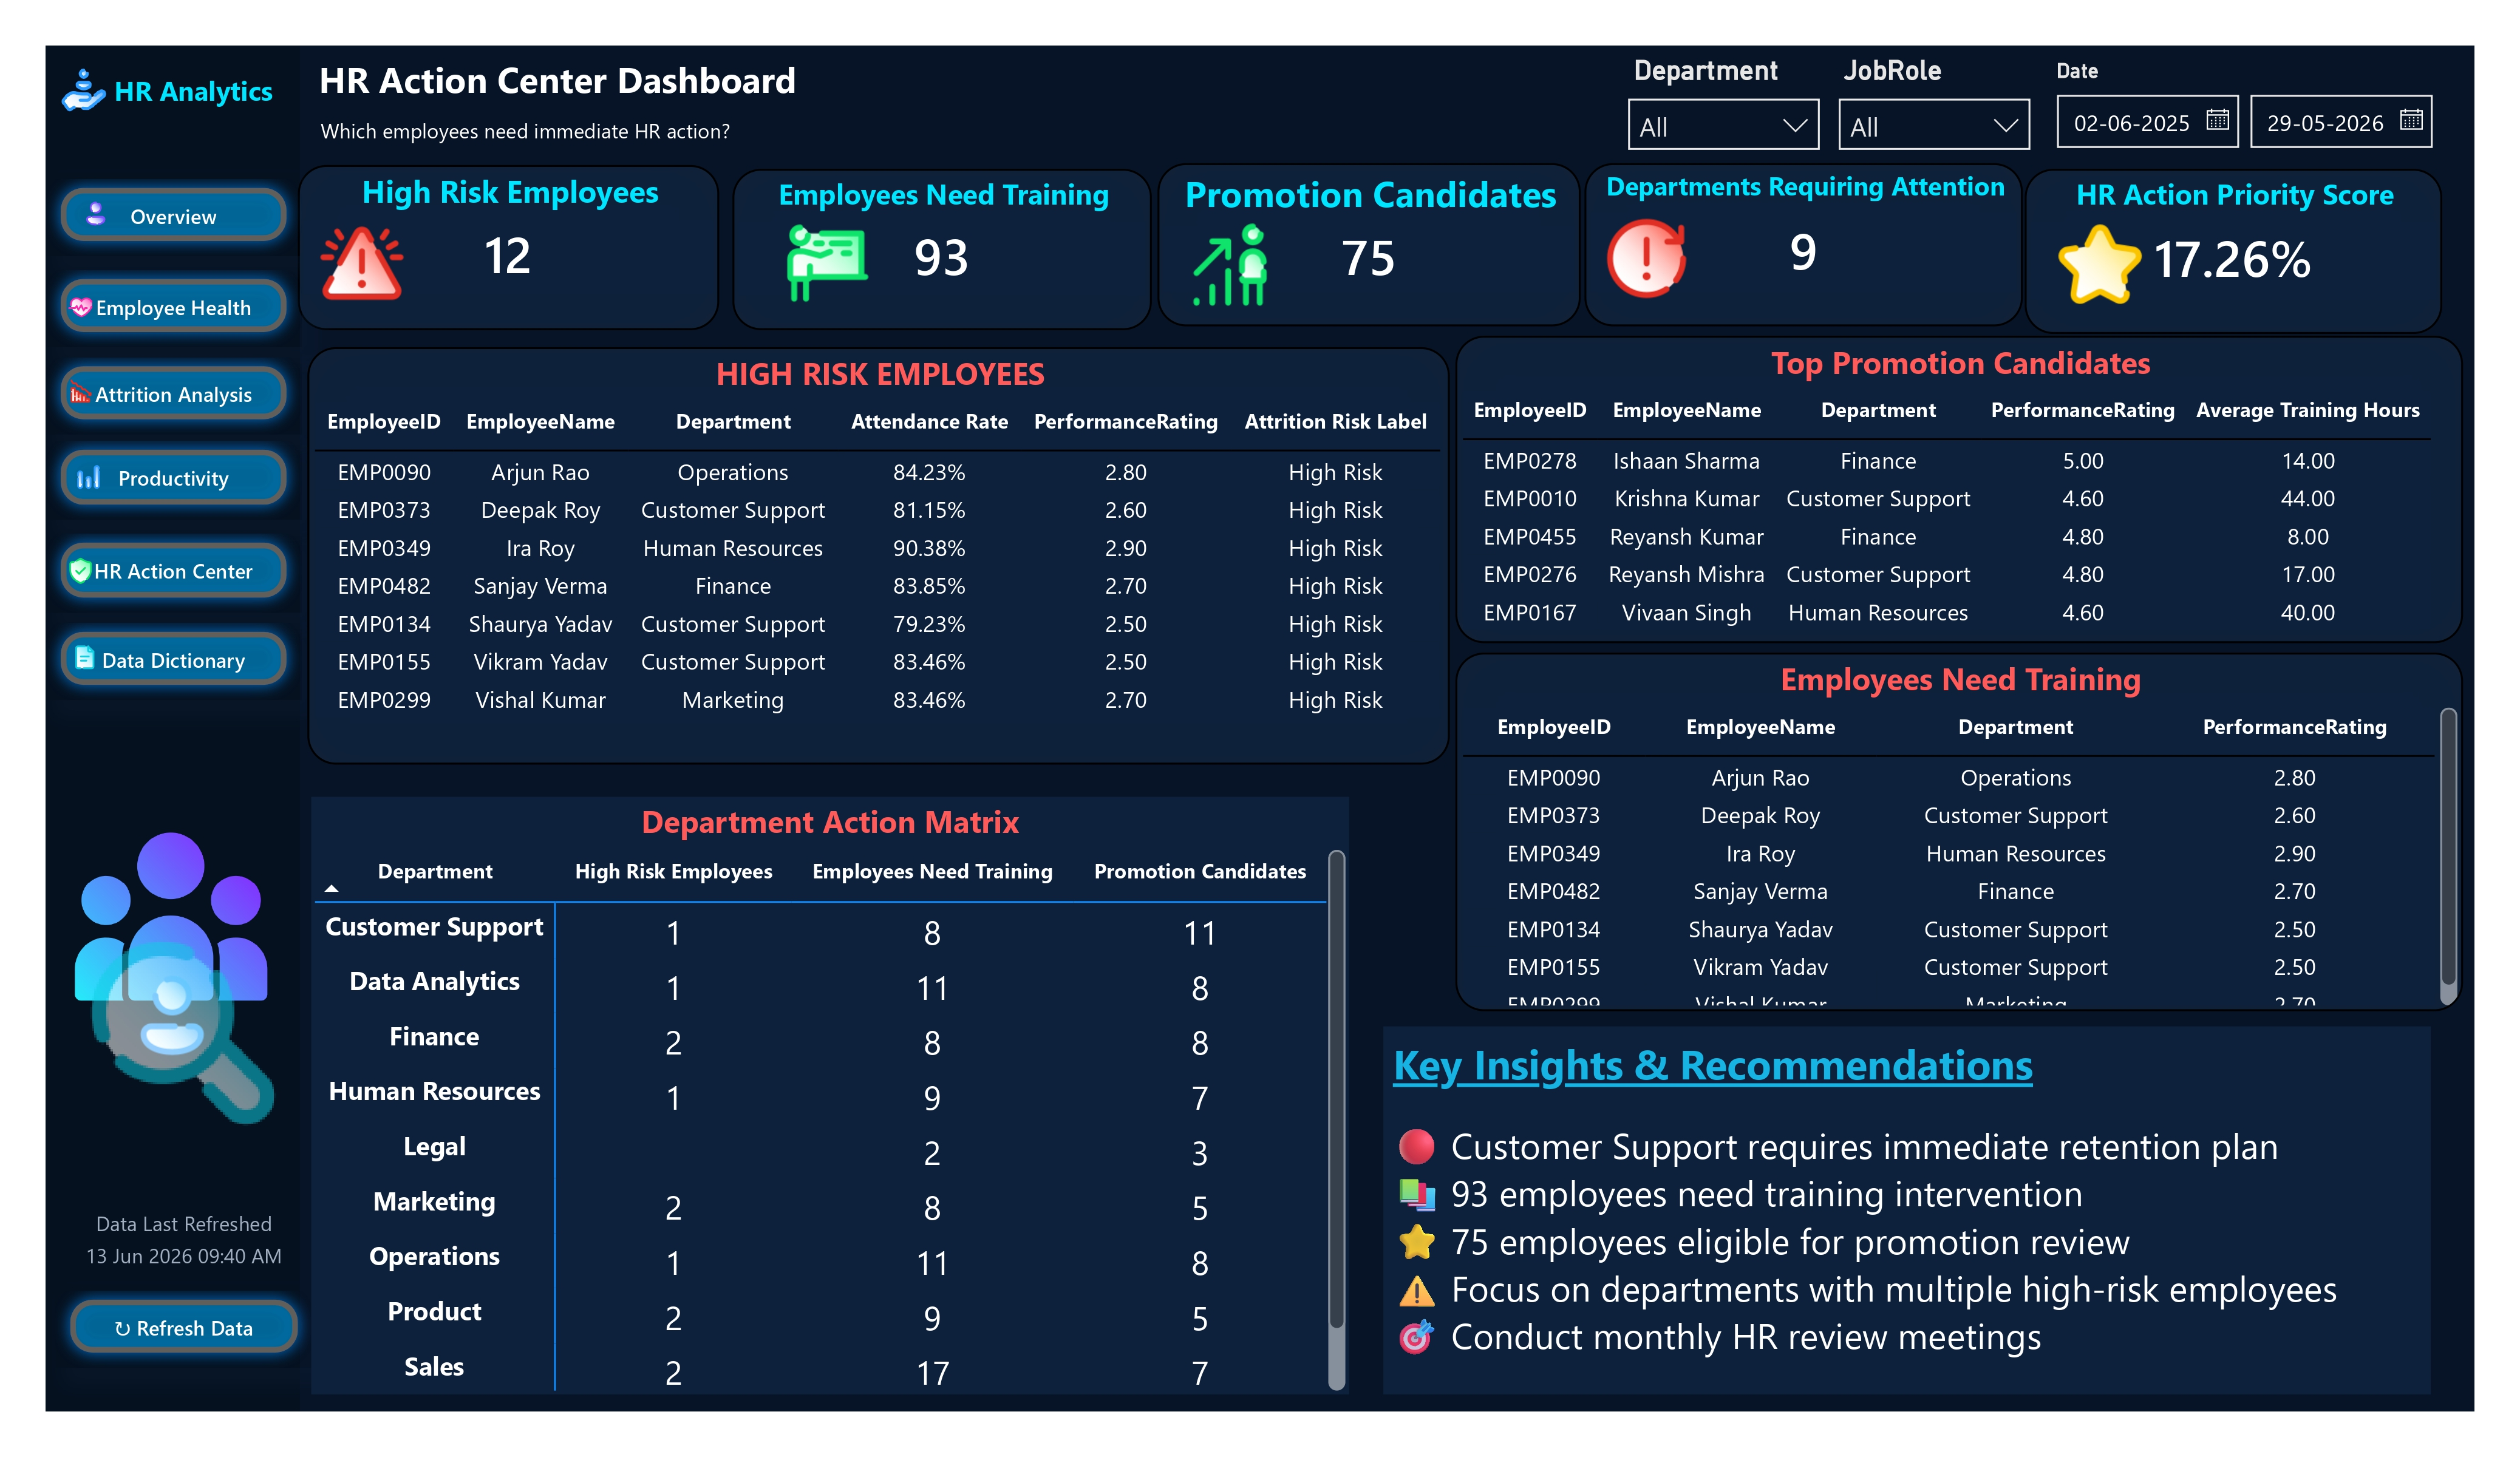

The dashboard page shown, as its layout file describes it:
{"tool":"powerbi","page":{"name":"HR Action Center","canvas":[1280,720],"ordinal":4},"visuals":[{"type":"shape","box":[0,0,134,720],"z":0},{"type":"cardVisual","title":"High Risk Employees","fields":{"Data":["HR Action Measures.High Risk Employees"]},"box":[133.3,63.1,222.2,86.1],"z":0,"group":"g1"},{"type":"textbox","box":[138.8,0,605,38.8],"z":1000},{"type":"cardVisual","title":"Employees Need Training","fields":{"Data":["HR Action Measures.Employees Need Training"]},"box":[362.3,64.3,221,85.9],"z":1000,"group":"g1"},{"type":"textbox","box":[140,30.2,669.6,33.4],"z":2000},{"type":"cardVisual","title":"Promotion Candidates","fields":{"Data":["HR Action Measures.Promotion Candidates"]},"box":[586.6,61.7,222.4,86.4],"z":2000,"group":"g1"},{"type":"group","id":"g1","title":"Group 1","box":[133.3,61.7,1130,90],"z":3000},{"type":"cardVisual","title":"Departments Requiring Attention","fields":{"Data":["HR Action Measures.Departments Requiring Attention"]},"box":[811.1,61.7,230.7,86.4],"z":3000,"group":"g1"},{"type":"slicer","fields":{"Values":["departments.Department"]},"box":[823.9,0,120.9,60.4],"z":4000},{"type":"cardVisual","title":"HR Action Priority Score","fields":{"Data":["HR Action Measures.HR Action Priority Score"]},"box":[1043.3,65.1,220,86.6],"z":4000,"group":"g1"},{"type":"slicer","fields":{"Values":["employees.JobRole"]},"box":[935.3,0,120.9,60.4],"z":5000},{"type":"slicer","fields":{"Values":["DateTable.Date"]},"box":[1046.7,2.2,227.8,60],"z":6000},{"type":"textbox","box":[29.4,8.9,97.2,30],"z":7000},{"type":"actionButton","box":[0,66.8,135.2,44.5],"z":8000},{"type":"actionButton","box":[0,114.5,135.2,44.5],"z":9000},{"type":"actionButton","box":[0,160.7,135.2,44.5],"z":10000},{"type":"actionButton","box":[0,205.2,135.2,44.5],"z":11000},{"type":"actionButton","box":[0,254.5,135.2,44.5],"z":12000},{"type":"actionButton","box":[0,300.6,135.2,44.5],"z":13000},{"type":"image","box":[12.8,396.8,106.7,124.4],"z":14000},{"type":"image","box":[42.2,480,50,62.2],"z":15000},{"type":"image","box":[11.1,457.8,123.3,125.6],"z":16000},{"type":"image","box":[19,81.4,14.8,14.8],"z":17000},{"type":"image","box":[11.4,130.9,15.5,14.5],"z":18000},{"type":"image","box":[11.4,174.8,14.8,15.2],"z":19000},{"type":"image","box":[14.3,220.5,15.2,14.8],"z":20000},{"type":"image","box":[11,269,15.2,14.8],"z":21000},{"type":"image","box":[12.9,314.3,14.8,15.2],"z":22000},{"type":"image","box":[7.2,9.4,25.6,28.9],"z":23000},{"type":"actionButton","box":[5.3,652.7,135.3,44.7],"z":24000},{"type":"textbox","box":[11.4,606.4,123.6,50.7],"z":25000},{"type":"textbox","box":[704.6,516.9,551.9,194.1],"z":26000},{"type":"tableEx","title":"Top Promotion Candidates","fields":{"Values":["performance.EmployeeID","employees.EmployeeName","departments.Department","performance.PerformanceRating","Performance Measures.Average Training Hours"]},"box":[742.8,152.7,531.3,162.2],"z":27000},{"type":"tableEx","title":"Employees Need Training","fields":{"Values":["performance.EmployeeID","employees.EmployeeName","departments.Department","performance.PerformanceRating"]},"box":[742.8,319.7,531.3,189.3],"z":28000},{"type":"tableEx","title":"HIGH RISK EMPLOYEES","fields":{"Values":["performance.EmployeeID","employees.EmployeeName","departments.Department","Attendance Measures.Attendance Rate","performance.PerformanceRating","employees.Attrition Risk Label"]},"box":[138.4,159.1,601.3,219.5],"z":29000},{"type":"pivotTable","title":"Department Action Matrix","fields":{"Rows":["departments.Department"],"Values":["HR Action Measures.High Risk Employees","HR Action Measures.Employees Need Training","HR Action Measures.Promotion Candidates"]},"box":[140,396.1,547.2,314.9],"z":30000},{"type":"image","box":[127.1,90,80,50],"z":30001},{"type":"image","box":[372.9,91.4,80,50],"z":30002},{"type":"image","box":[584.3,91.4,80,50],"z":30003},{"type":"image","box":[804.3,87.1,80,50],"z":30004},{"type":"image","box":[1042.9,90,80,50],"z":30005}]}

Visuals, with their boxes on the page's 1280x720 design canvas (x1, y1, x2, y2). These are canvas units, not pixel positions in the 2520x1457 screenshot, which may show the page scaled, cropped or inside an application window:
shape: crop(0, 0, 134, 720)
"High Risk Employees" cardVisual: crop(133, 63, 356, 149)
textbox: crop(139, 0, 744, 39)
"Employees Need Training" cardVisual: crop(362, 64, 583, 150)
textbox: crop(140, 30, 810, 64)
"Promotion Candidates" cardVisual: crop(587, 62, 809, 148)
"Group 1" group: crop(133, 62, 1263, 152)
"Departments Requiring Attention" cardVisual: crop(811, 62, 1042, 148)
slicer - departments.Department: crop(824, 0, 945, 60)
"HR Action Priority Score" cardVisual: crop(1043, 65, 1263, 152)
slicer - employees.JobRole: crop(935, 0, 1056, 60)
slicer - DateTable.Date: crop(1047, 2, 1274, 62)
textbox: crop(29, 9, 127, 39)
actionButton: crop(0, 67, 135, 111)
actionButton: crop(0, 114, 135, 159)
actionButton: crop(0, 161, 135, 205)
actionButton: crop(0, 205, 135, 250)
actionButton: crop(0, 254, 135, 299)
actionButton: crop(0, 301, 135, 345)
image: crop(13, 397, 120, 521)
image: crop(42, 480, 92, 542)
image: crop(11, 458, 134, 583)
image: crop(19, 81, 34, 96)
image: crop(11, 131, 27, 145)
image: crop(11, 175, 26, 190)
image: crop(14, 220, 30, 235)
image: crop(11, 269, 26, 284)
image: crop(13, 314, 28, 330)
image: crop(7, 9, 33, 38)
actionButton: crop(5, 653, 141, 697)
textbox: crop(11, 606, 135, 657)
textbox: crop(705, 517, 1256, 711)
"Top Promotion Candidates" tableEx: crop(743, 153, 1274, 315)
"Employees Need Training" tableEx: crop(743, 320, 1274, 509)
"HIGH RISK EMPLOYEES" tableEx: crop(138, 159, 740, 379)
"Department Action Matrix" pivotTable: crop(140, 396, 687, 711)
image: crop(127, 90, 207, 140)
image: crop(373, 91, 453, 141)
image: crop(584, 91, 664, 141)
image: crop(804, 87, 884, 137)
image: crop(1043, 90, 1123, 140)
